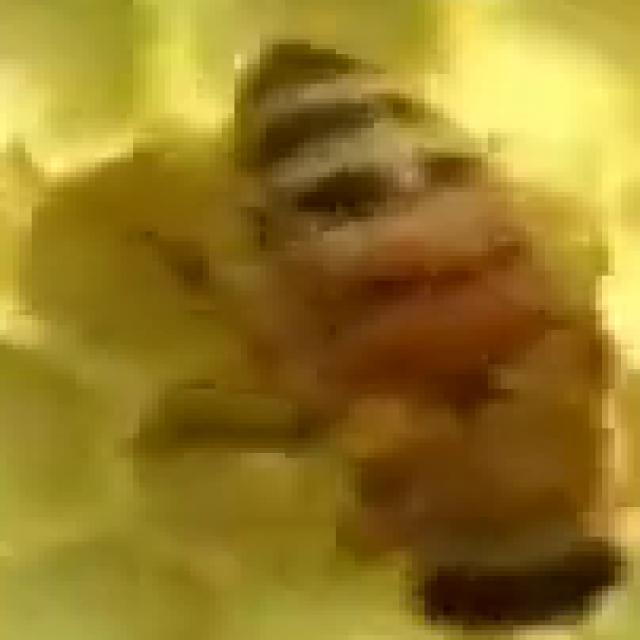honeybee: (193, 30, 640, 618)
